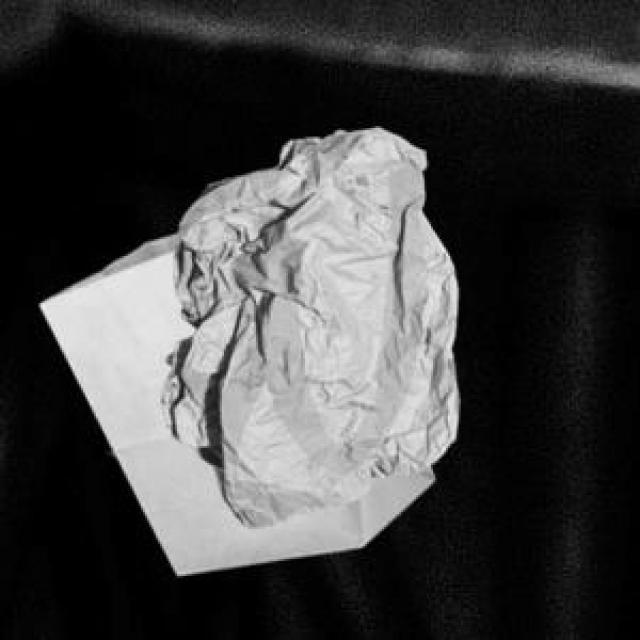paper: (36, 230, 431, 570), (158, 124, 454, 525)
